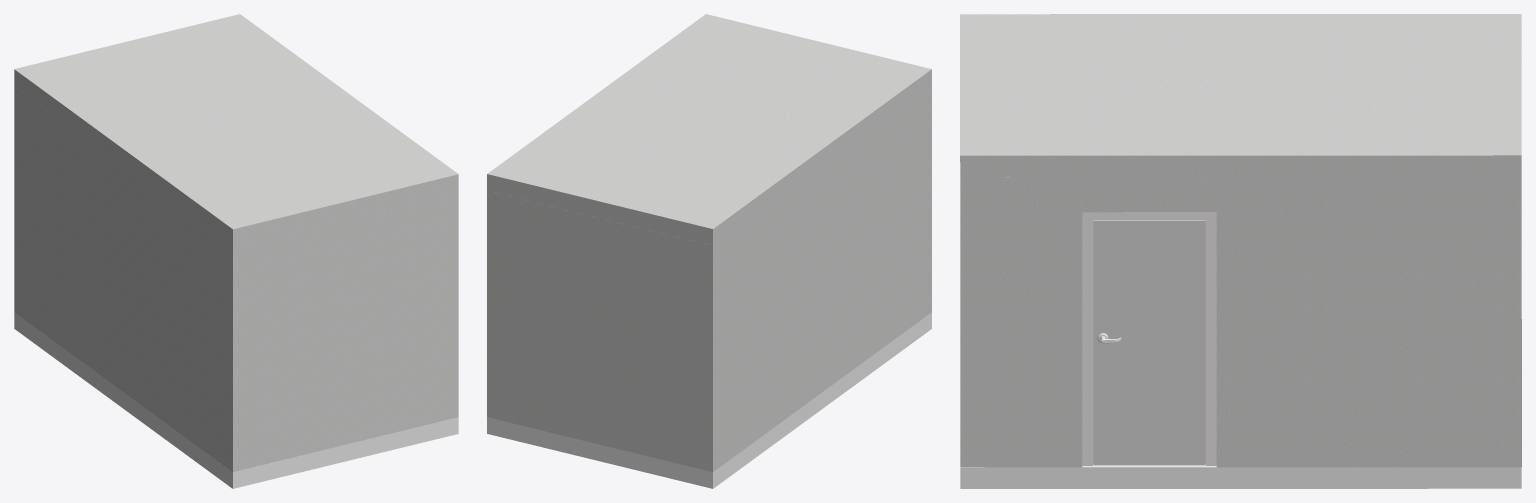
Rendered from FloorPlan421_physics.fbx.
The picture shows the model from 3 angles, left to right: view 1: azimuth 30°, elevation 25°; view 2: azimuth 150°, elevation 25°; view 3: azimuth 270°, elevation 25°; orthographic projection. The views are drawn at different scales.
Visible parts, largest first — view 1: FP421:Walls, FP421:Floor, FP421:Ceiling; view 2: FP421:Walls, FP421:Floor, FP421:Ceiling; view 3: FP421:Walls, FP421:Floor, FP421:Door.017, FP421:Ceiling, FP421:DoorFrame.017.
Part boxes in pixels (x1=…): FP421:Walls: x1=14, y1=86, x2=458, y2=471; FP421:Floor: x1=14, y1=14, x2=458, y2=245; FP421:Ceiling: x1=14, y1=312, x2=458, y2=488; FP421:Walls: x1=487, y1=86, x2=931, y2=471; FP421:Floor: x1=487, y1=14, x2=931, y2=245; FP421:Ceiling: x1=487, y1=312, x2=931, y2=488; FP421:Walls: x1=960, y1=177, x2=1521, y2=467; FP421:Floor: x1=960, y1=14, x2=1521, y2=177; FP421:Door.017: x1=1093, y1=220, x2=1205, y2=465; FP421:Ceiling: x1=960, y1=464, x2=1521, y2=488; FP421:DoorFrame.017: x1=1082, y1=212, x2=1216, y2=465.
Size of the model in its own units: 253 by 274 by 418.
